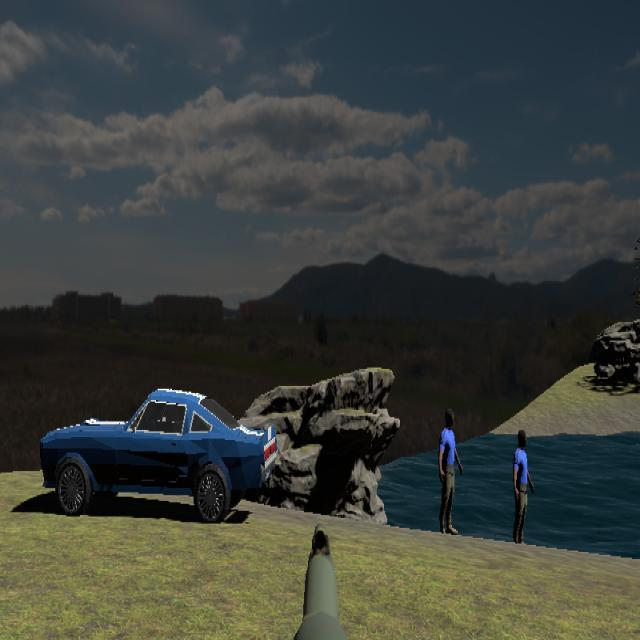Human: (439, 408, 463, 536), (513, 428, 534, 547)
car: (38, 387, 282, 523)
